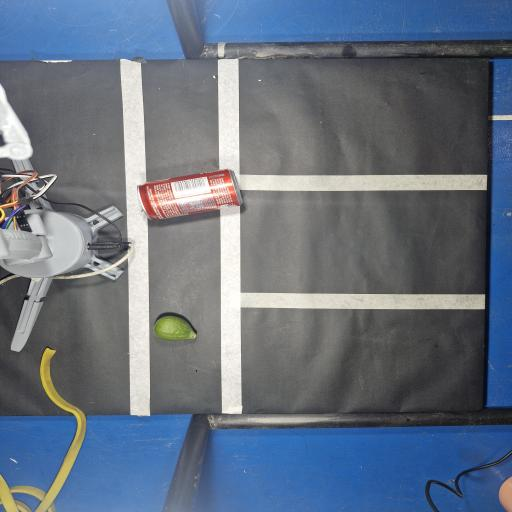higo: (154, 316, 196, 340)
lata: (137, 169, 242, 219)
